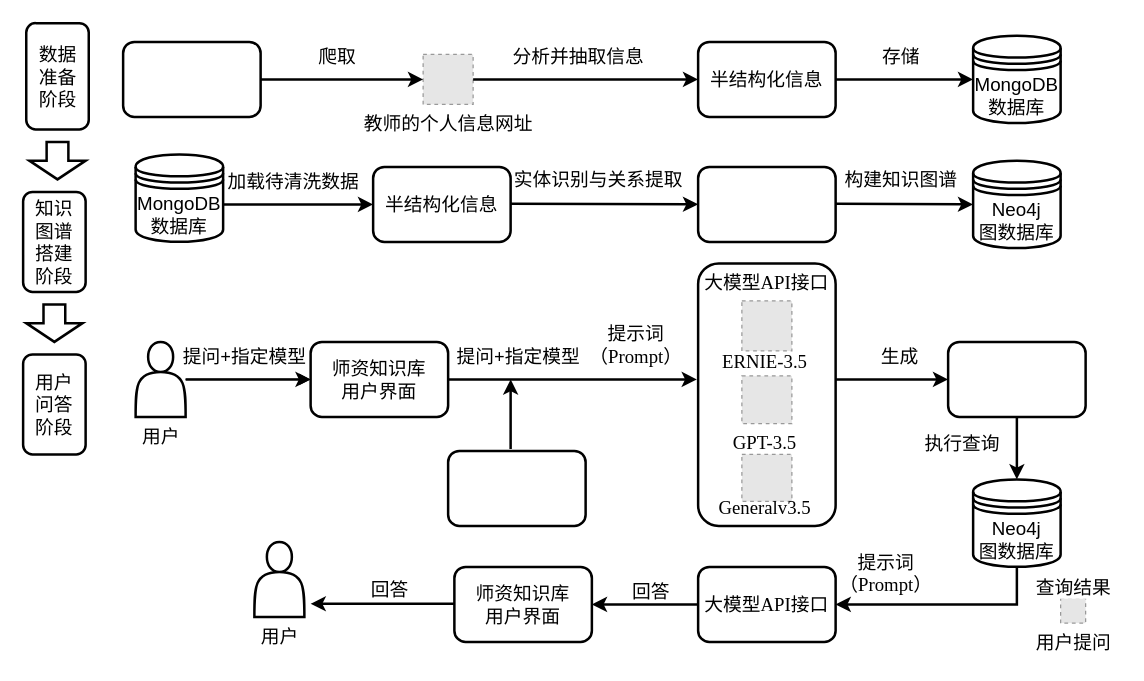
Image size: 1144x681. Some labels were removed from this diagram. Grey dashed boxes stand in for pictures. The centre of each missing label's shape, as x and y in pixels:
"Cypher命令" belongs at [1016,379].
"各高校的官网" belongs at [191,79].
"知识图谱 结构信息" belongs at [516,487].
"结构化信息" belongs at [766,203].
